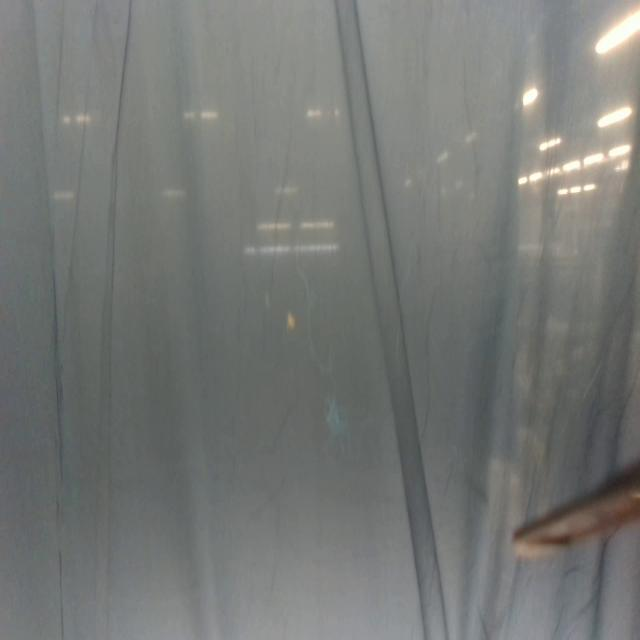crease: (334, 1, 450, 634), (100, 4, 134, 444), (68, 71, 93, 271), (50, 266, 65, 488), (53, 4, 69, 134), (58, 543, 67, 640)
